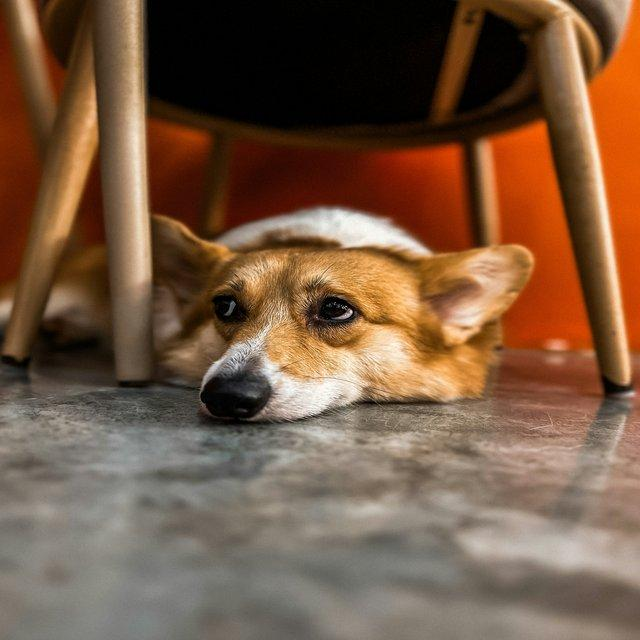corgi: (2, 203, 535, 424)
